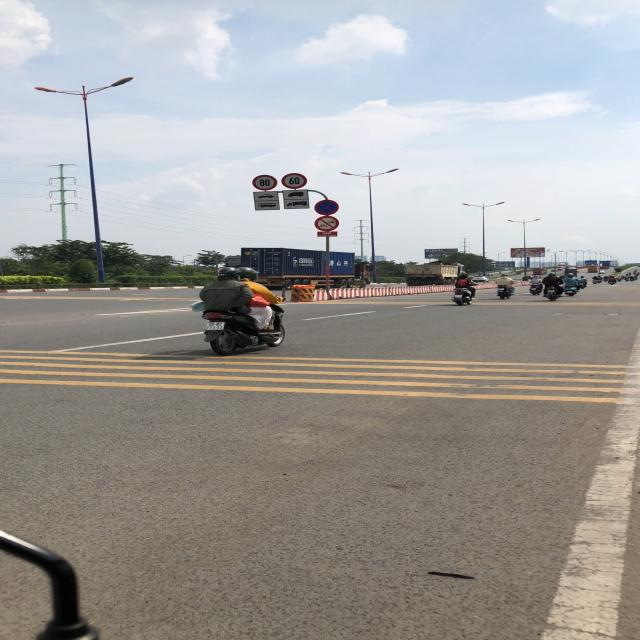Bien bao cam dung xe va do xe: (314, 198, 342, 216)
Bien bao toc do toi da cho phep: (279, 171, 309, 190), (251, 173, 279, 191)
